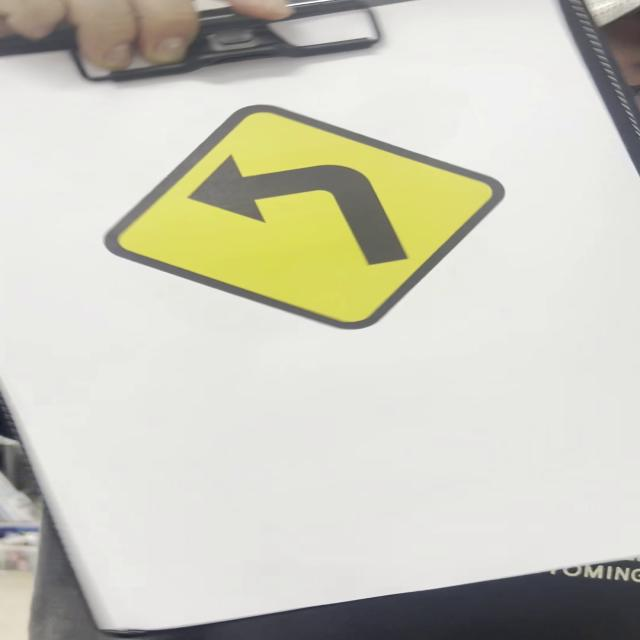left: (106, 105, 509, 337)
